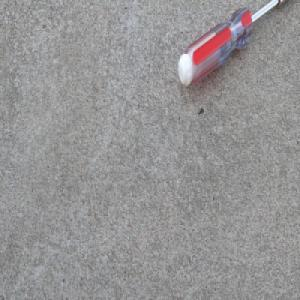Screwdriver: (175, 0, 289, 89)
